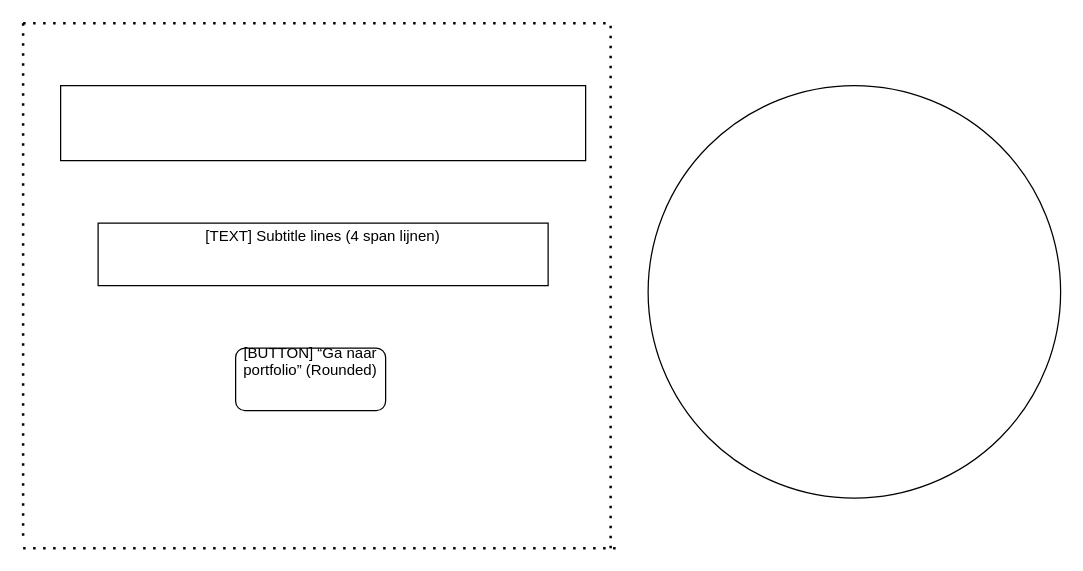
The diagram is 1083 pixels wide and 571 high, and some of its shapes have lost their labels. The shapes that lost their labels are listed below. From the top down, each one's box as (x1, y1, x2, y2) in pixels, then its label:
(59, 84, 586, 161): [TEXT] H1: Vishal Tewari
(647, 84, 1061, 498): PROFILE IMAGE (Ellipse shape)
